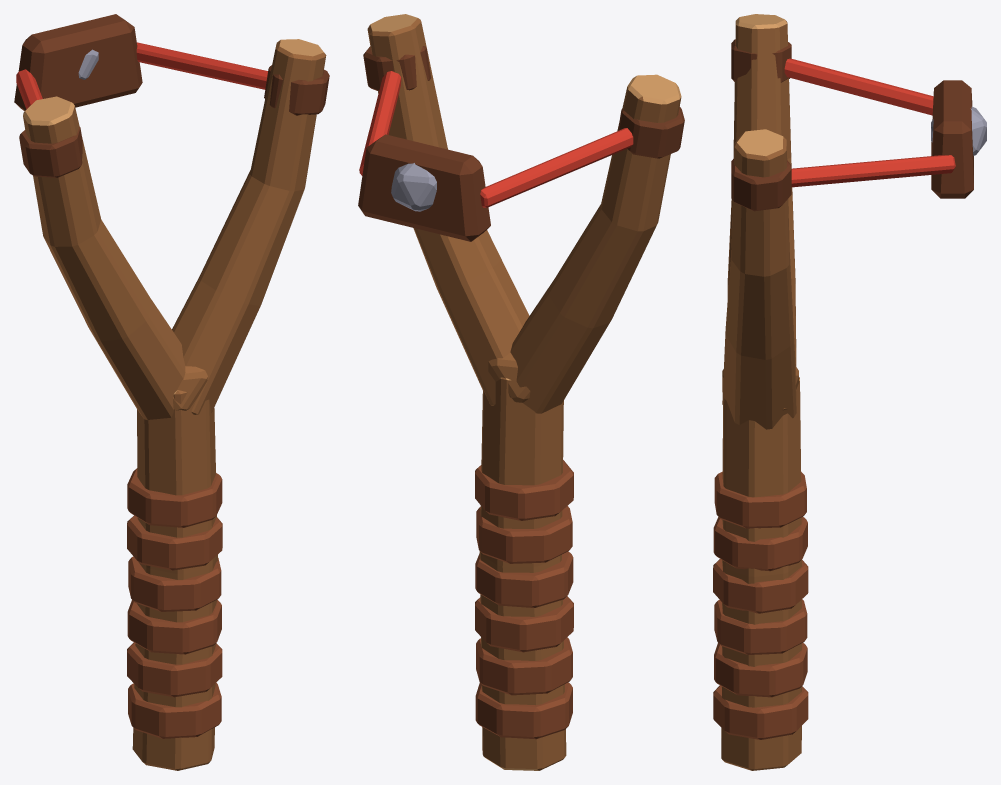
File: myw_slingshot.glb
3 views of the same model, side by side, from view 1: azimuth 30°, elevation 25°; view 2: azimuth 150°, elevation 25°; view 3: azimuth 270°, elevation 25° (orthographic). The views are drawn at different scales.
Visible parts, largest first — view 1: Frame, Grip, Pouch, Band_R, Band_L; view 2: Frame, Grip, Pouch, Band_L, Stone, Band_R; view 3: Frame, Grip, Pouch, Band_R, Band_L, Stone.
Boxes of the visible parts, x1,y1,x2,y2 form: Frame: (19, 39, 329, 770); Grip: (127, 468, 222, 738); Pouch: (14, 14, 142, 111); Band_R: (136, 42, 267, 89); Band_L: (16, 69, 42, 109); Frame: (363, 14, 684, 770); Grip: (475, 460, 573, 739); Pouch: (358, 134, 490, 241); Band_L: (480, 128, 633, 207); Stone: (391, 163, 436, 211); Band_R: (359, 71, 401, 175); Frame: (721, 14, 801, 770); Grip: (713, 471, 808, 739); Pouch: (931, 80, 973, 198); Band_R: (791, 155, 955, 187); Band_L: (784, 58, 933, 115); Stone: (931, 106, 986, 155).
Bounding box in the file's own units: 1.12 × 2.42 × 0.8837.
